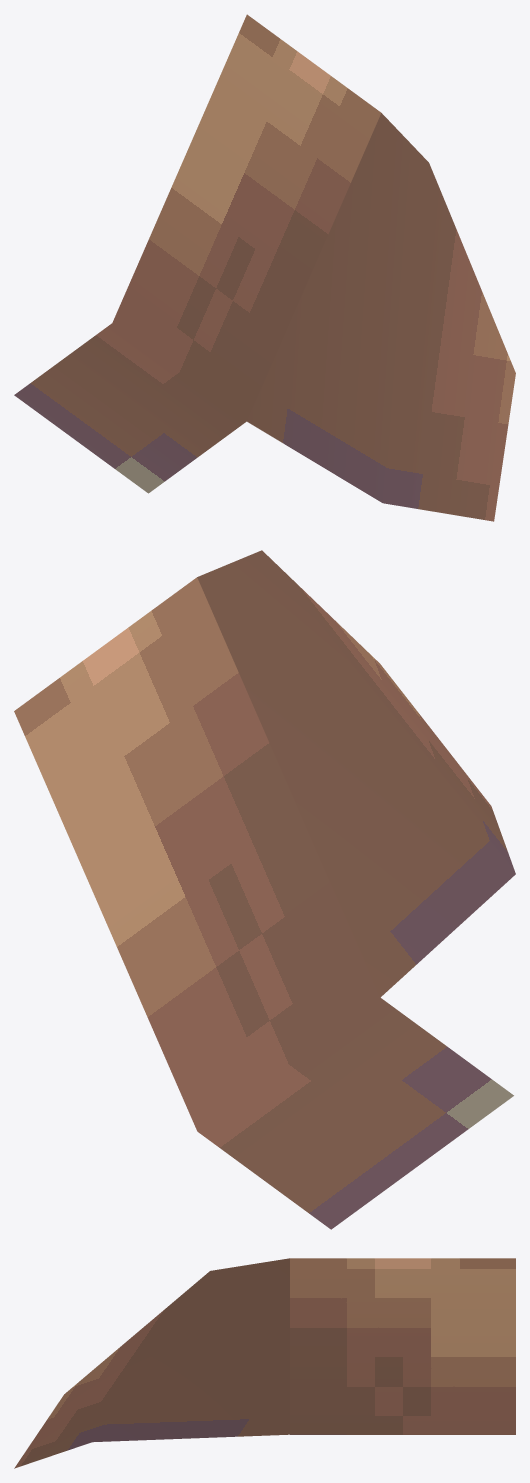
3 views of the same model, one above another, from view 1: azimuth 30°, elevation 25°; view 2: azimuth 150°, elevation 25°; view 3: azimuth 270°, elevation 25° (orthographic). The views are drawn at different scales.
Size of the model in its own units: 0.5 by 0.6645 by 1.11.
Materials: 1 (1 with a texture image).
